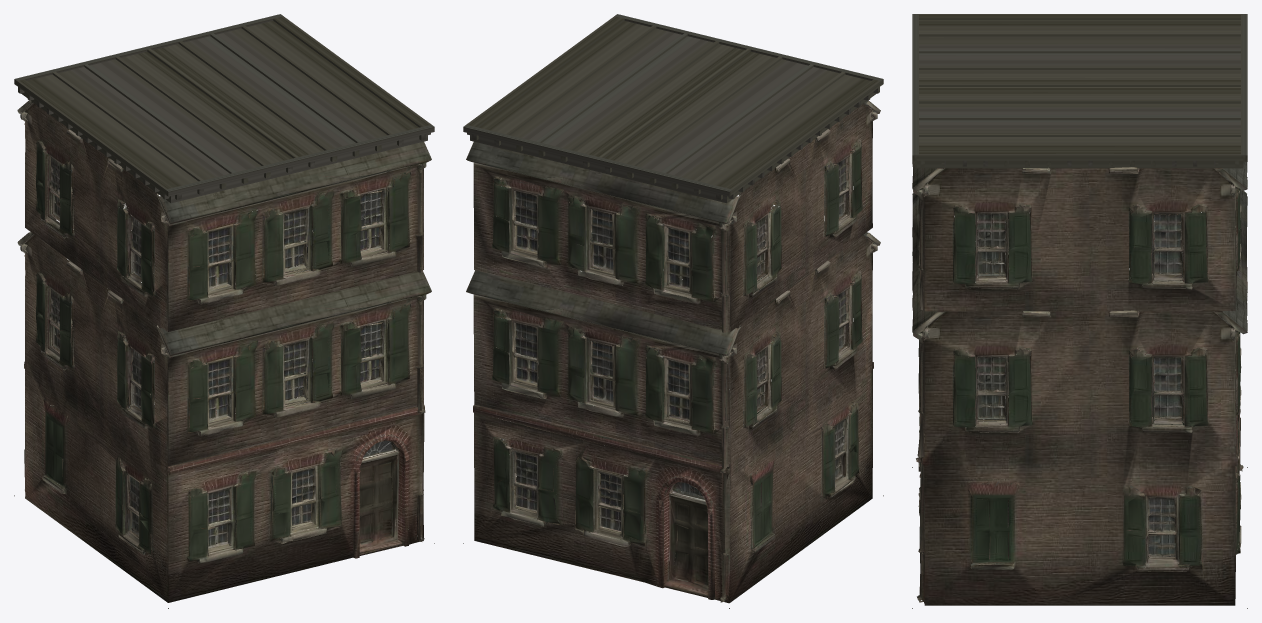
Rendered from bldg-row-brick-b.glb.
3 views of the same model, side by side, from view 1: azimuth 30°, elevation 25°; view 2: azimuth 150°, elevation 25°; view 3: azimuth 270°, elevation 25° (orthographic). The views are drawn at different scales.
Visible parts, largest first — view 1: bldg-row-brick-b; view 2: bldg-row-brick-b; view 3: bldg-row-brick-b.
Boxes of the visible parts, box(x1,y1,x2,y2) form: bldg-row-brick-b: box(14, 14, 434, 608); bldg-row-brick-b: box(463, 14, 883, 608); bldg-row-brick-b: box(912, 14, 1247, 608).
Bounding box in the file's own units: 1.27 × 1.9 × 1.27.
1 material, 1 textured.
